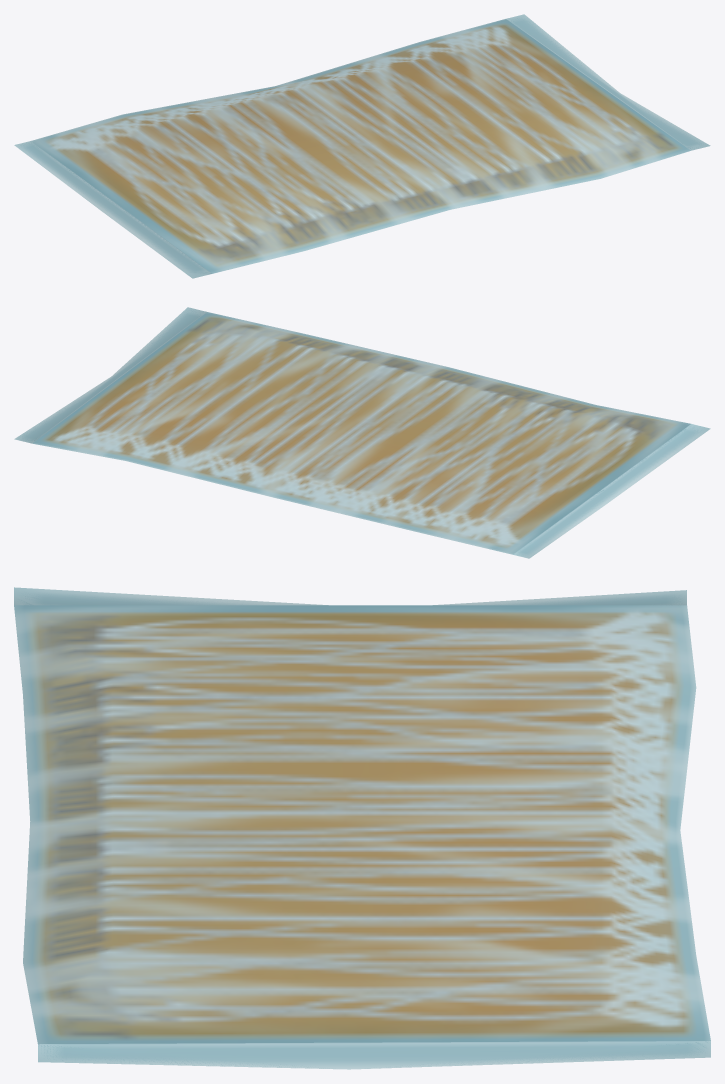
The model's file is jsf_TwistedPaperPack.fbx.
The picture shows the model from 3 angles, top to bottom: view 1: azimuth 30°, elevation 25°; view 2: azimuth 150°, elevation 25°; view 3: azimuth 270°, elevation 25°; orthographic projection. The views are drawn at different scales.
Parts seen in each view (by area): view 1: jsf_TwistedPaperPack; view 2: jsf_TwistedPaperPack; view 3: jsf_TwistedPaperPack.
Boxes of the visible parts, x1=… form: jsf_TwistedPaperPack: x1=14, y1=14, x2=710, y2=278; jsf_TwistedPaperPack: x1=14, y1=307, x2=710, y2=558; jsf_TwistedPaperPack: x1=14, y1=587, x2=710, y2=1069.
Bounding box in the file's own units: 23.78 × 0.6199 × 14.75.
